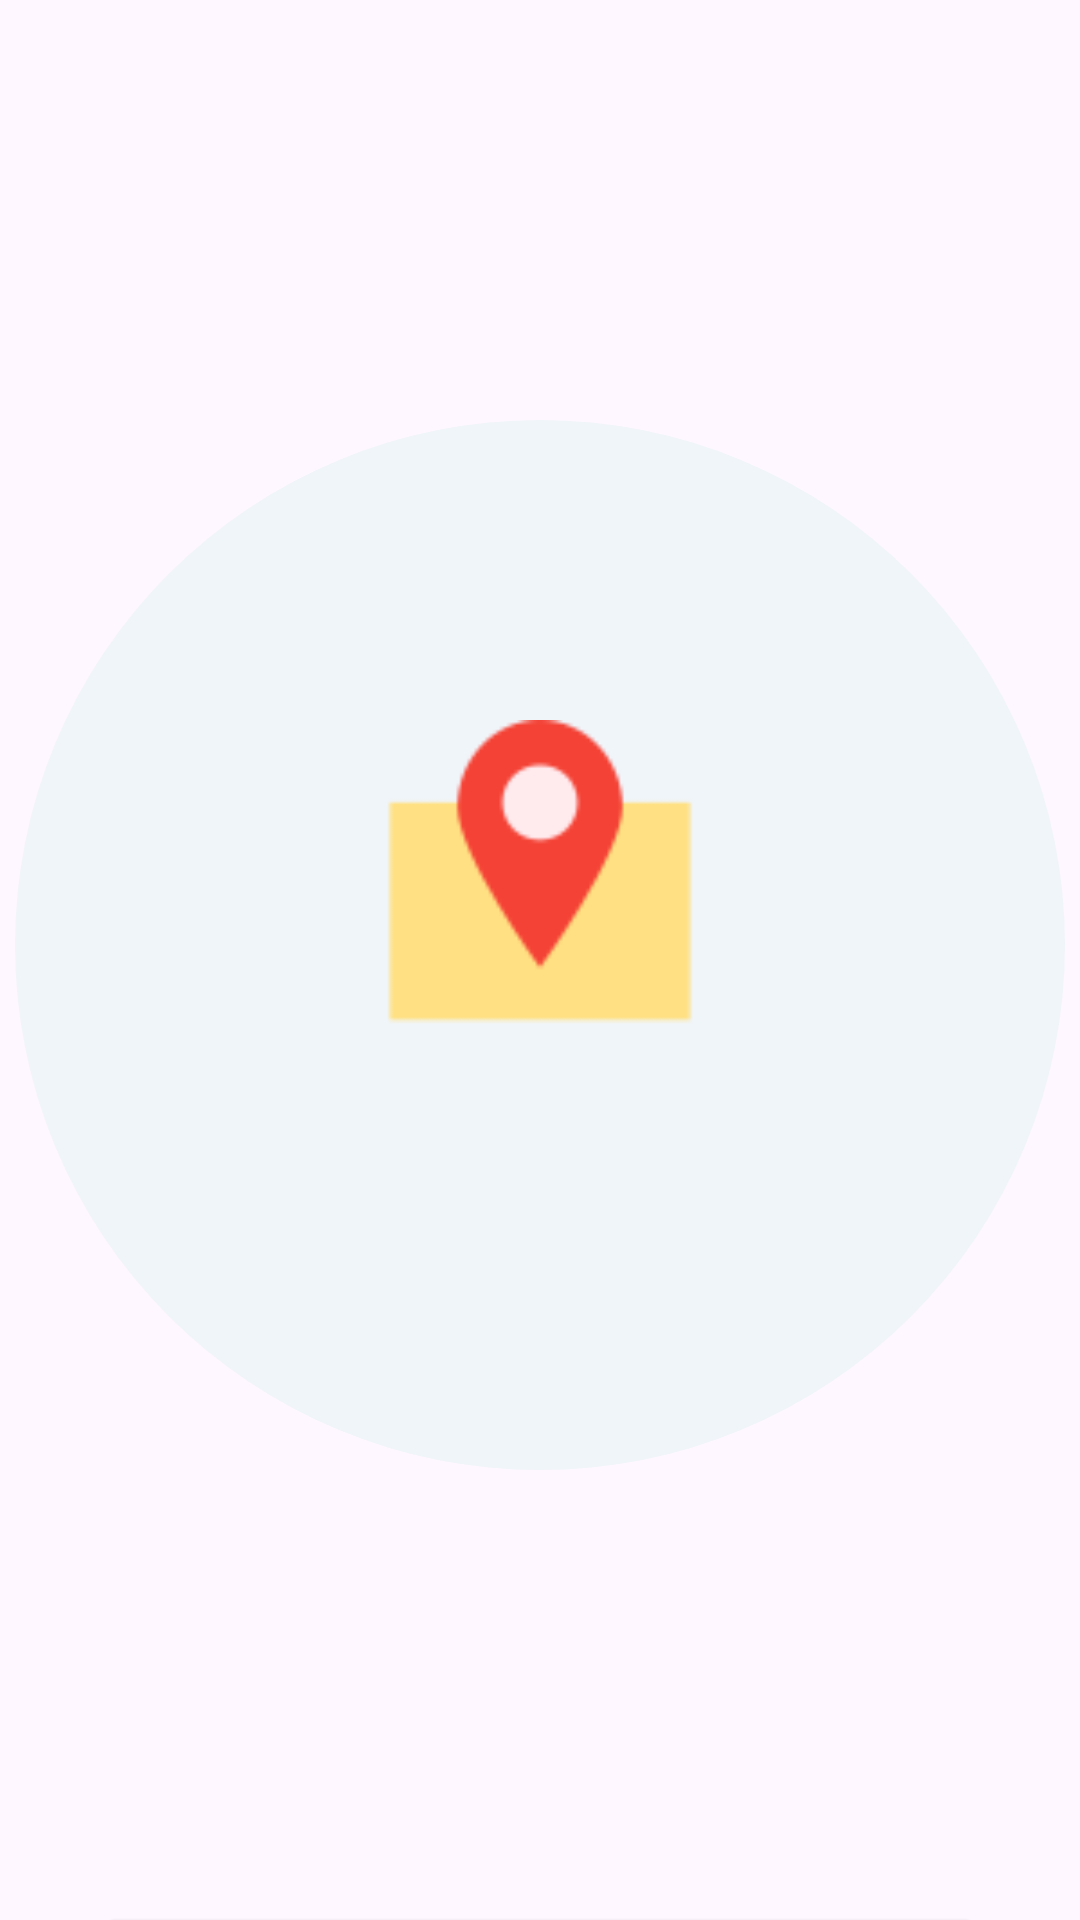

Icons on this 1080px x 1920px Android screen, each with the point to tap as point (x, y):
location: point (540, 871)
